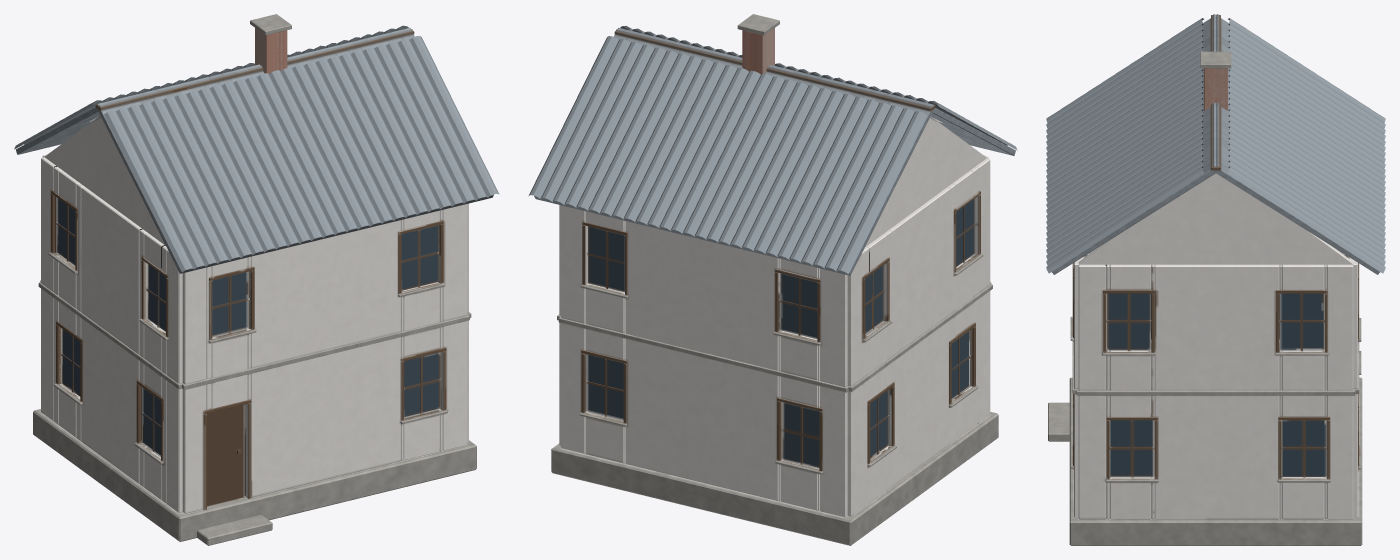
File: house_plaster.glb
The picture shows the model from 3 angles, left to right: view 1: azimuth 30°, elevation 25°; view 2: azimuth 150°, elevation 25°; view 3: azimuth 270°, elevation 25°; orthographic projection.
Parts seen in each view (by area): view 1: house_plaster; view 2: house_plaster; view 3: house_plaster.
Boxes of the visible parts, x1,y1,x2,y2 form: house_plaster: (16,14,493,545); house_plaster: (534,14,1015,545); house_plaster: (1048,14,1379,545).
Bounding box in the file's own units: 7.31 × 9.36 × 6.8.
Materials: 2 (1 with a texture image).
